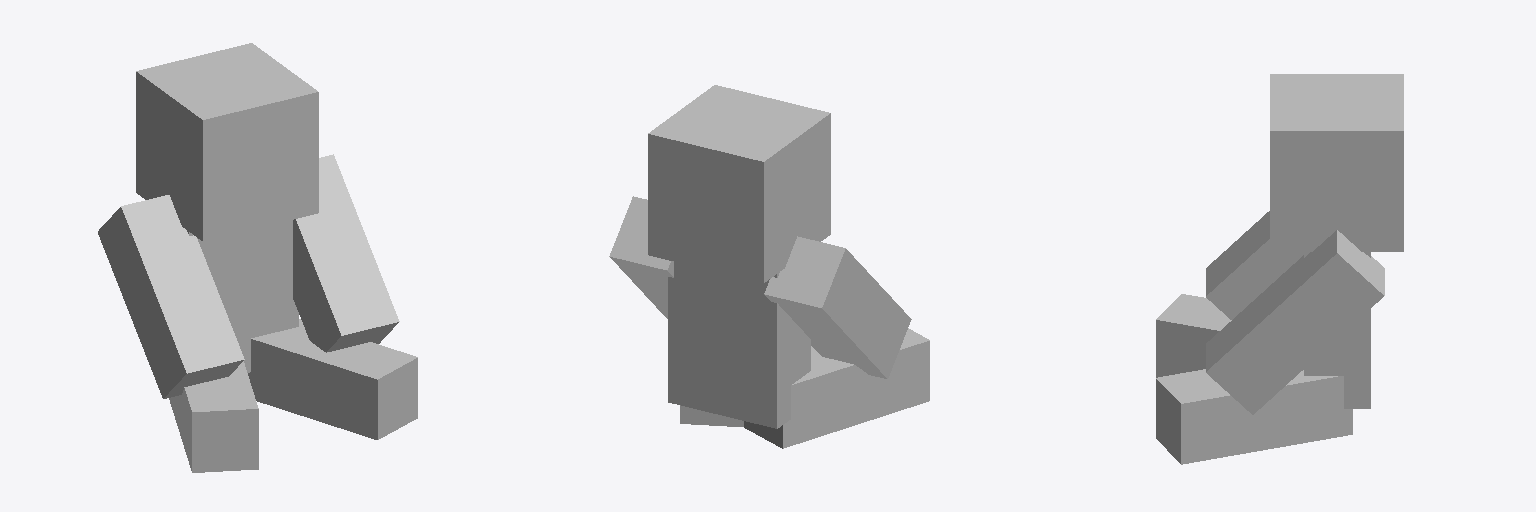
The model's file is teddy.obj.
3 views of the same model, side by side, from view 1: azimuth 30°, elevation 25°; view 2: azimuth 150°, elevation 25°; view 3: azimuth 270°, elevation 25° (orthographic).
Visible parts, largest first — view 1: headlayer, leftarmlayer, rightleglayer, rightarmlayer, torsolayer, leftleglayer; view 2: headlayer, torsolayer, leftarmlayer, leftleglayer, rightarmlayer, rightleglayer; view 3: headlayer, rightarmlayer, rightleglayer, leftarmlayer, leftleglayer, torsolayer.
Part boxes in pixels (x1,y1,x2,y2): headlayer: (136,43,318,241); leftarmlayer: (98,195,244,398); rightleglayer: (248,319,417,439); rightarmlayer: (293,154,399,352); torsolayer: (187,220,298,372); leftleglayer: (169,361,258,472); headlayer: (648,85,830,282); torsolayer: (668,262,810,428); leftarmlayer: (764,236,911,378); leftleglayer: (744,328,929,448); rightarmlayer: (609,196,673,318); rightleglayer: (680,405,743,426); headlayer: (1270,74,1403,251); rightarmlayer: (1206,230,1384,414); rightleglayer: (1156,369,1352,464); leftarmlayer: (1206,211,1303,319); leftleglayer: (1156,294,1231,377); torsolayer: (1304,252,1370,408).
Bounding box in the file's own units: 0.5479 × 0.7109 × 0.5212.